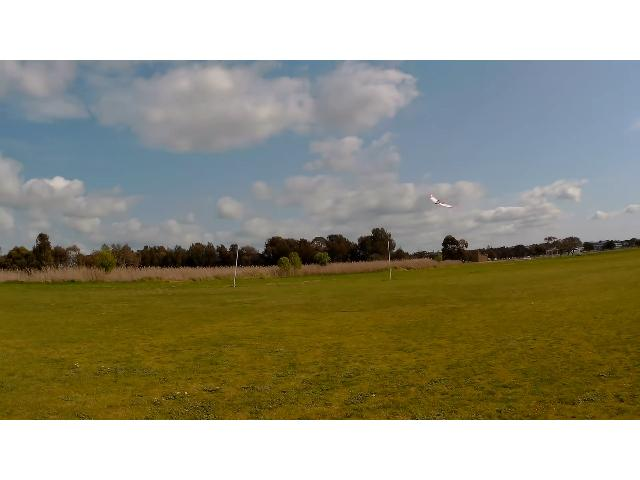Anti-Drone: (430, 194, 454, 208)
